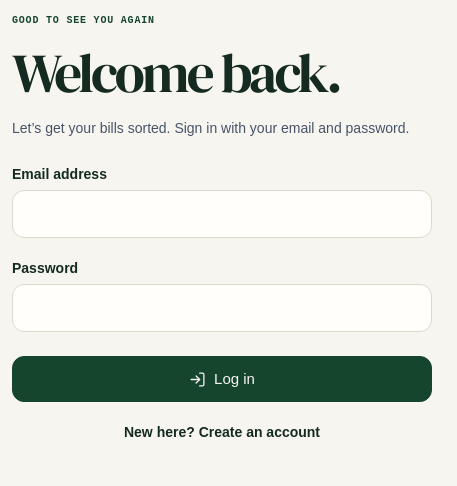
Test: LoginForm › renders client-side validation messages
The image size is (457, 486).
Type "bad" into the field labelled "Email address" at [222, 214], box [12,190,432,238]
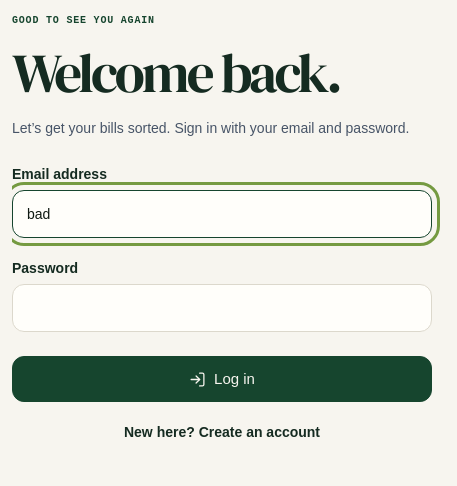
Click the button "Log in" at [222, 379], box [12,356,432,402]
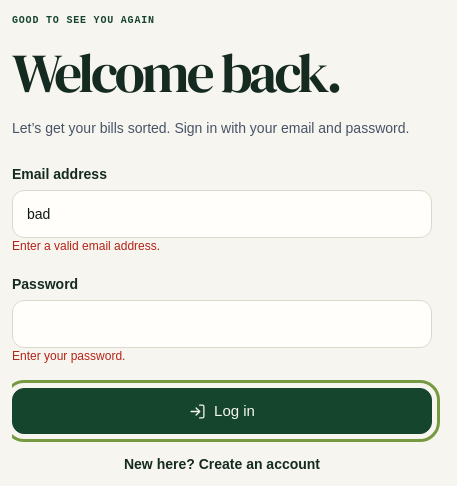
Check: the text "Enter a valid email address." is shown, box [12,239,160,253]
Check: the text "Enter your password." is shown, box [12,349,125,363]
